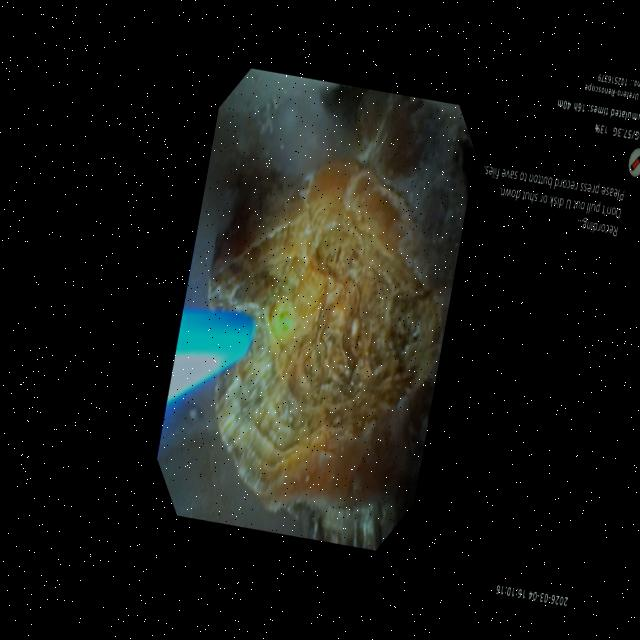laser_dot: (274, 312, 293, 335)
stone-new: (207, 90, 469, 550)
